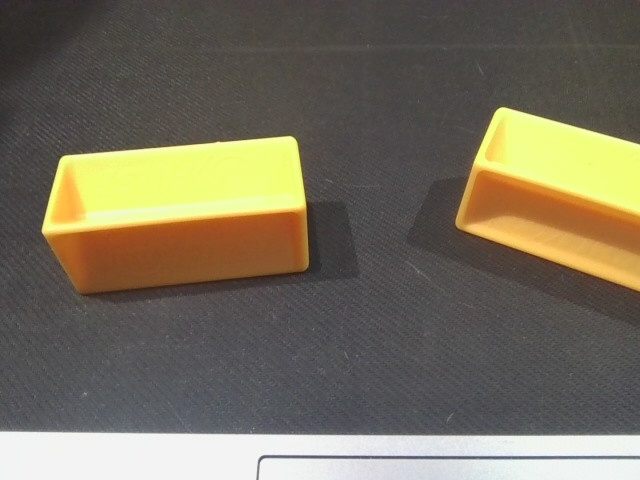YellowSample: (39, 132, 315, 301), (452, 102, 640, 288)
